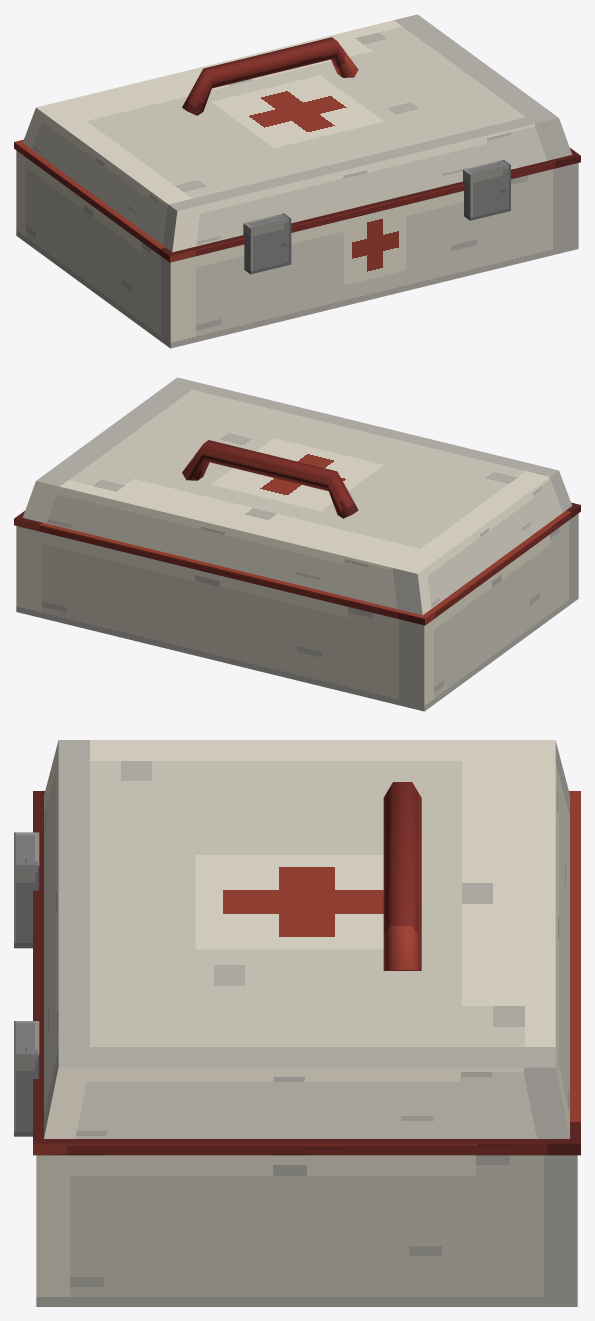
The model's file is INV_FirstAidKit.glb.
3 renders of one model, top to bottom at view 1: azimuth 30°, elevation 25°; view 2: azimuth 150°, elevation 25°; view 3: azimuth 270°, elevation 25°, orthographic. The views are drawn at different scales.
Parts seen in each view (by area): view 1: INV_FirstAidKit_Mesh; view 2: INV_FirstAidKit_Mesh; view 3: INV_FirstAidKit_Mesh.
Part boxes in pixels (x1=…): INV_FirstAidKit_Mesh: x1=14, y1=14, x2=580, y2=348; INV_FirstAidKit_Mesh: x1=14, y1=377, x2=580, y2=711; INV_FirstAidKit_Mesh: x1=14, y1=740, x2=580, y2=1306.
Size of what is drawn, in the model's own units: 0.262 by 0.1021 by 0.178.
1 material, 1 textured.
